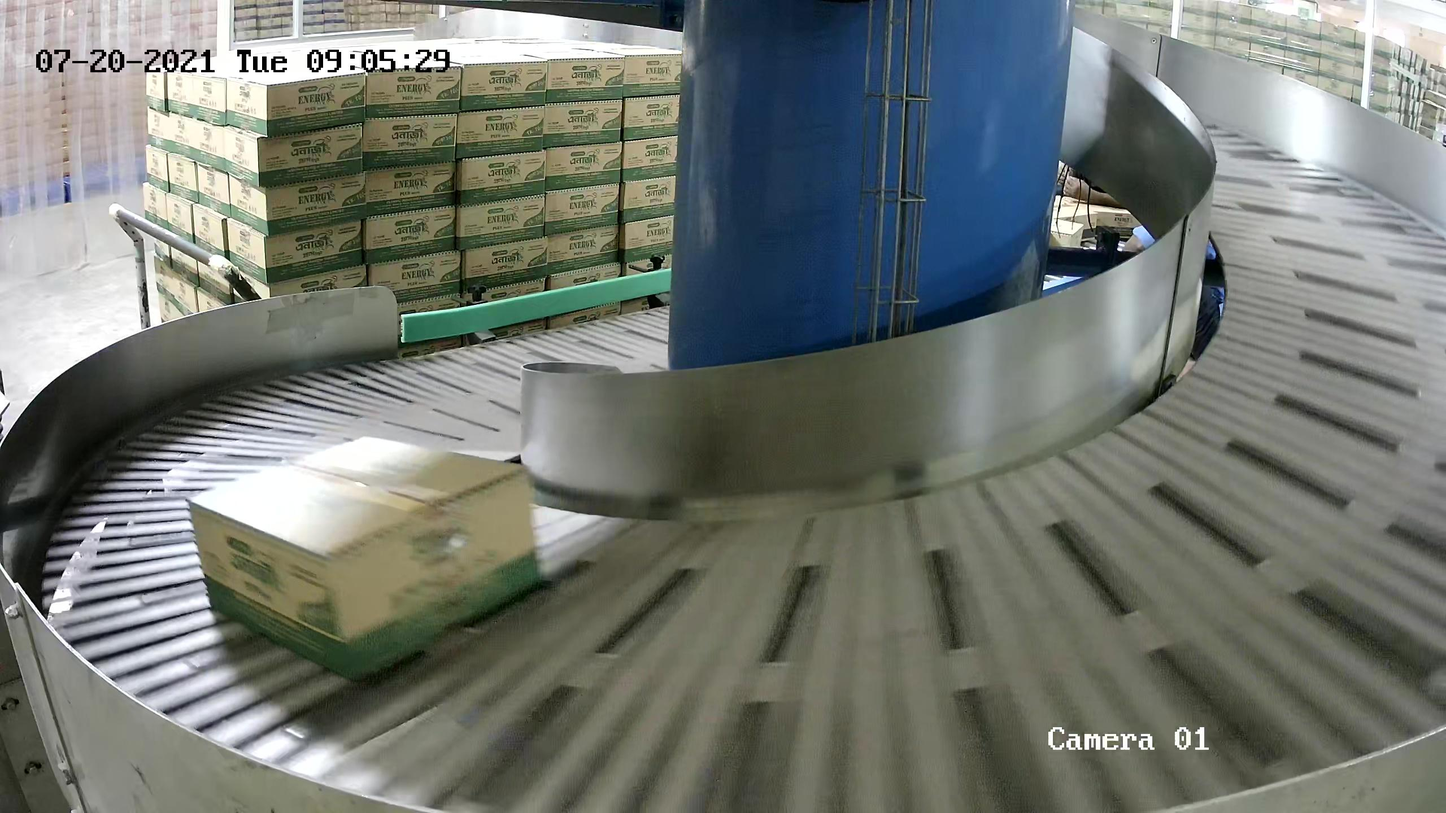Box: (178, 430, 553, 688)
